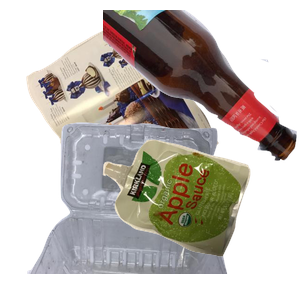glass: (103, 10, 300, 163)
paper: (24, 10, 235, 190)
plastic: (25, 120, 245, 300)
trash: (100, 137, 300, 300)
